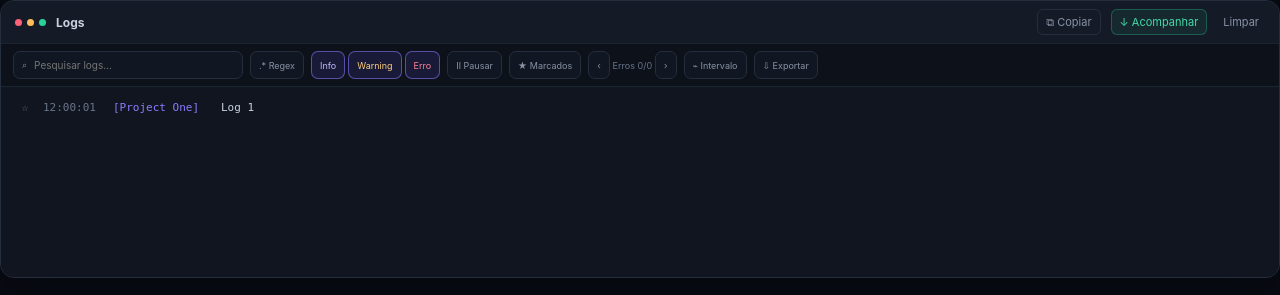
Scenario: LogPanelComponent › shows a failure state when the clipboard bridge rejects the write
Step 1. Click the button with class "copy-logs" → (1069, 22), box [1037,9,1101,35]
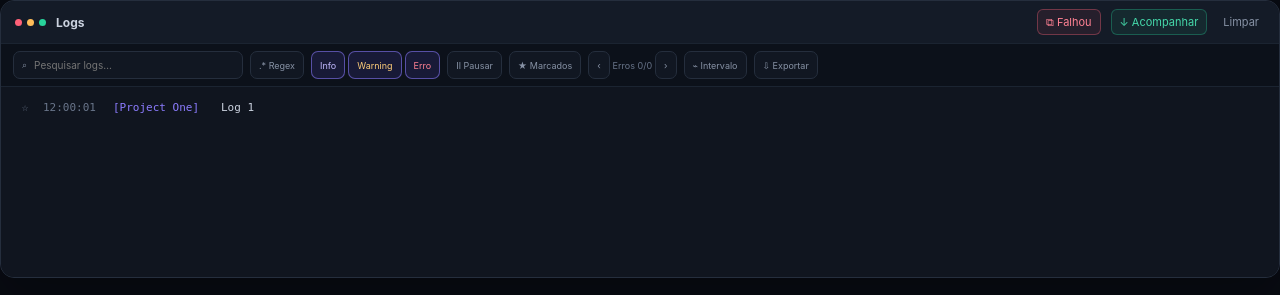
expect the button with class "copy-logs" shows "Falhou": met, box [1037,9,1101,35]
